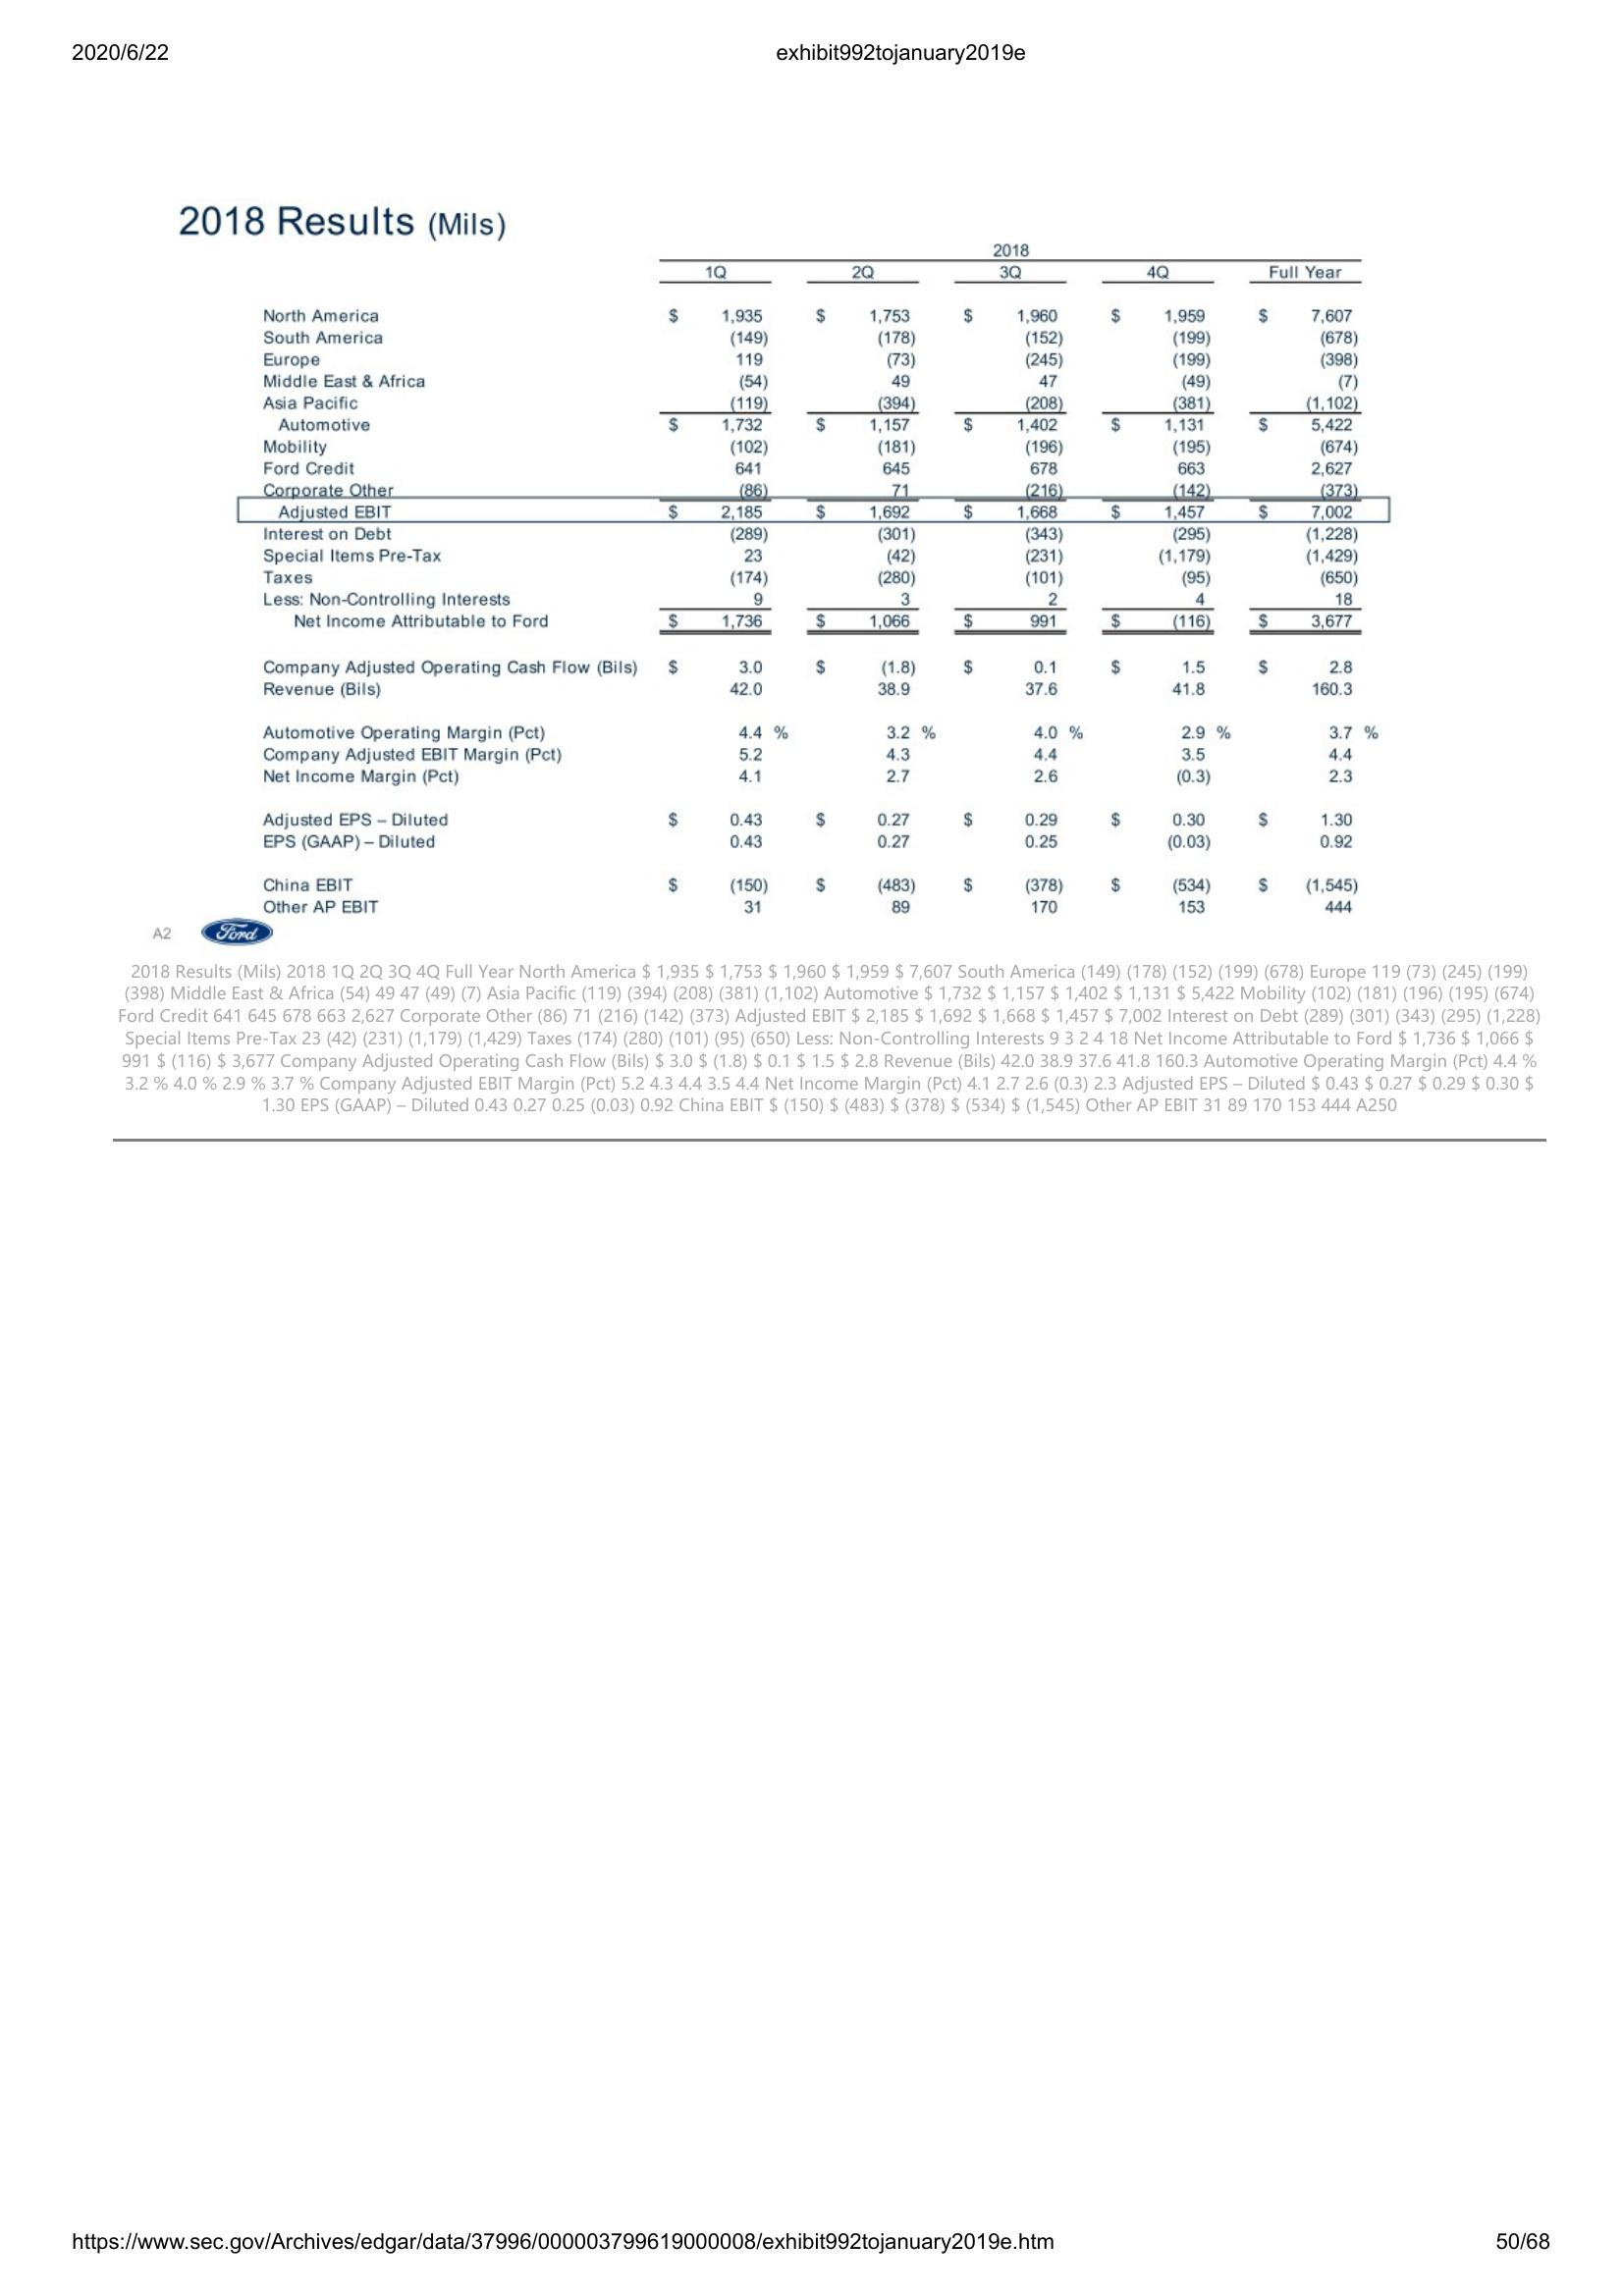table: (232, 237, 1395, 918)
